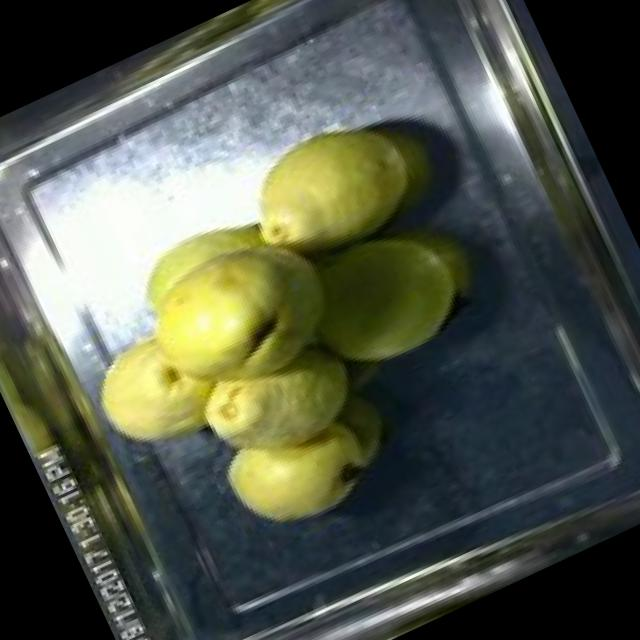Fruit: (29, 177, 353, 483), (180, 328, 419, 557), (278, 190, 506, 397), (218, 87, 442, 293)
